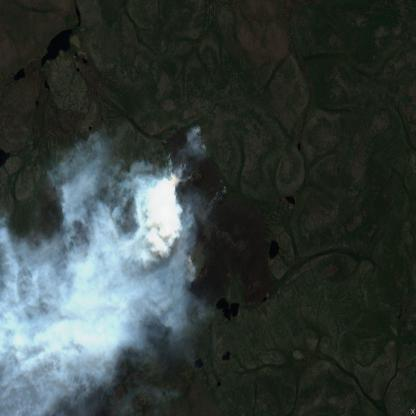fire: (154, 123, 209, 264)
